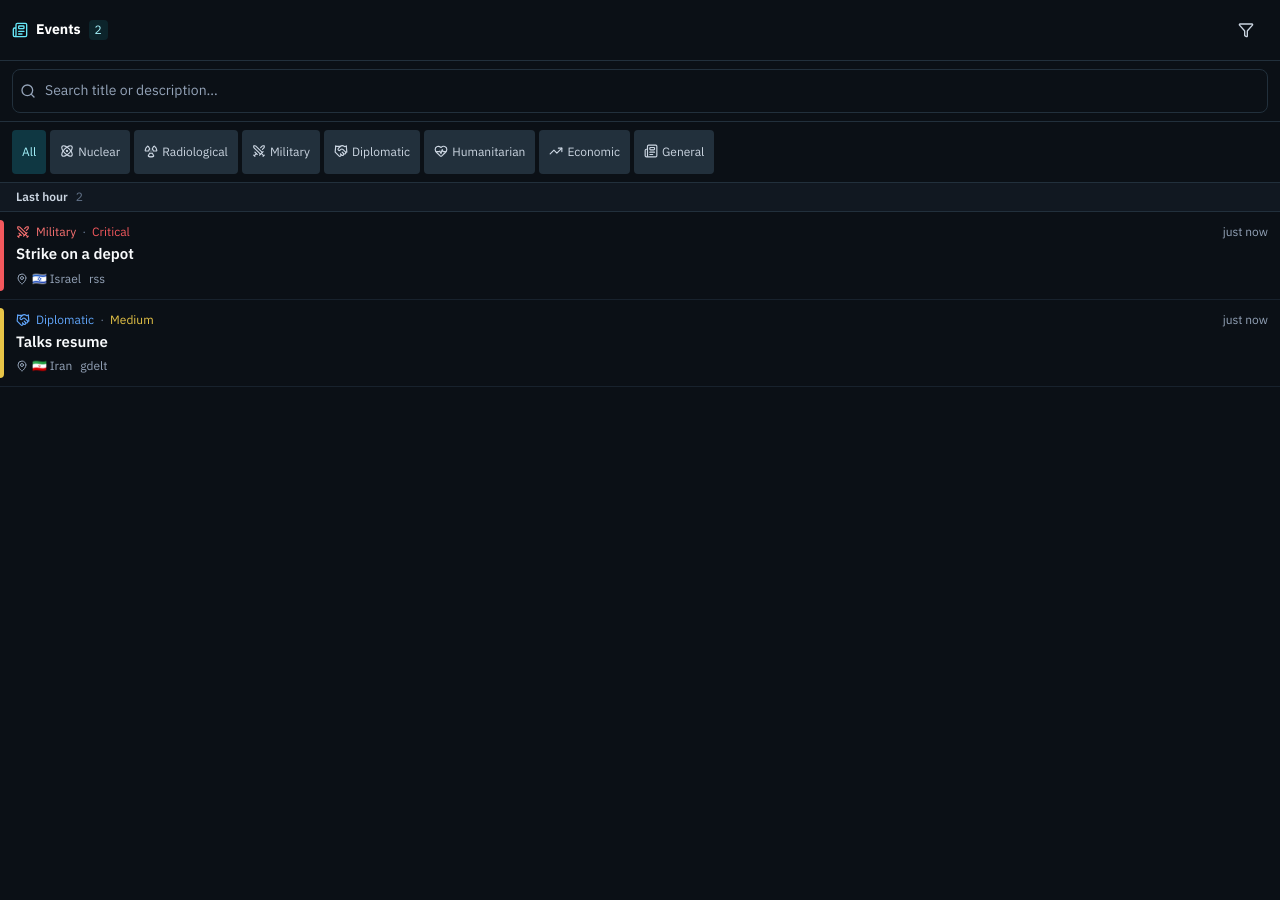
Test case: <NewsFeed> filter panel › reveals country / source / period selects once opened
Click the button named "Toggle filters". click: (1246, 30)
box: [1224,8,1268,52]
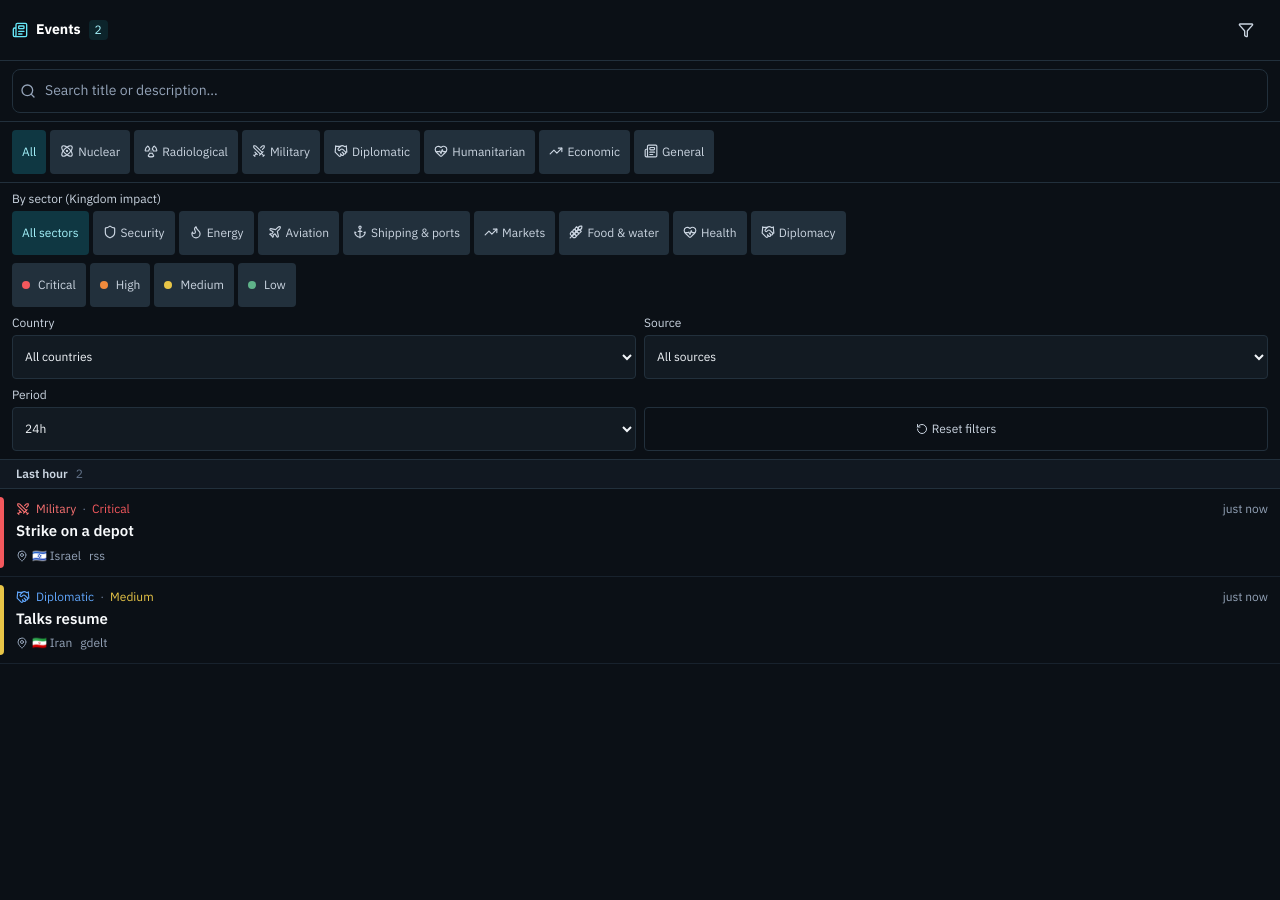
Check: the number of dropdowns is 3, box [12,335,636,379]; [644,335,1268,379]; [12,407,636,451]
